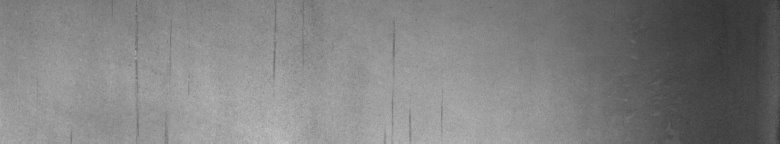ka: (391, 34, 443, 136)
